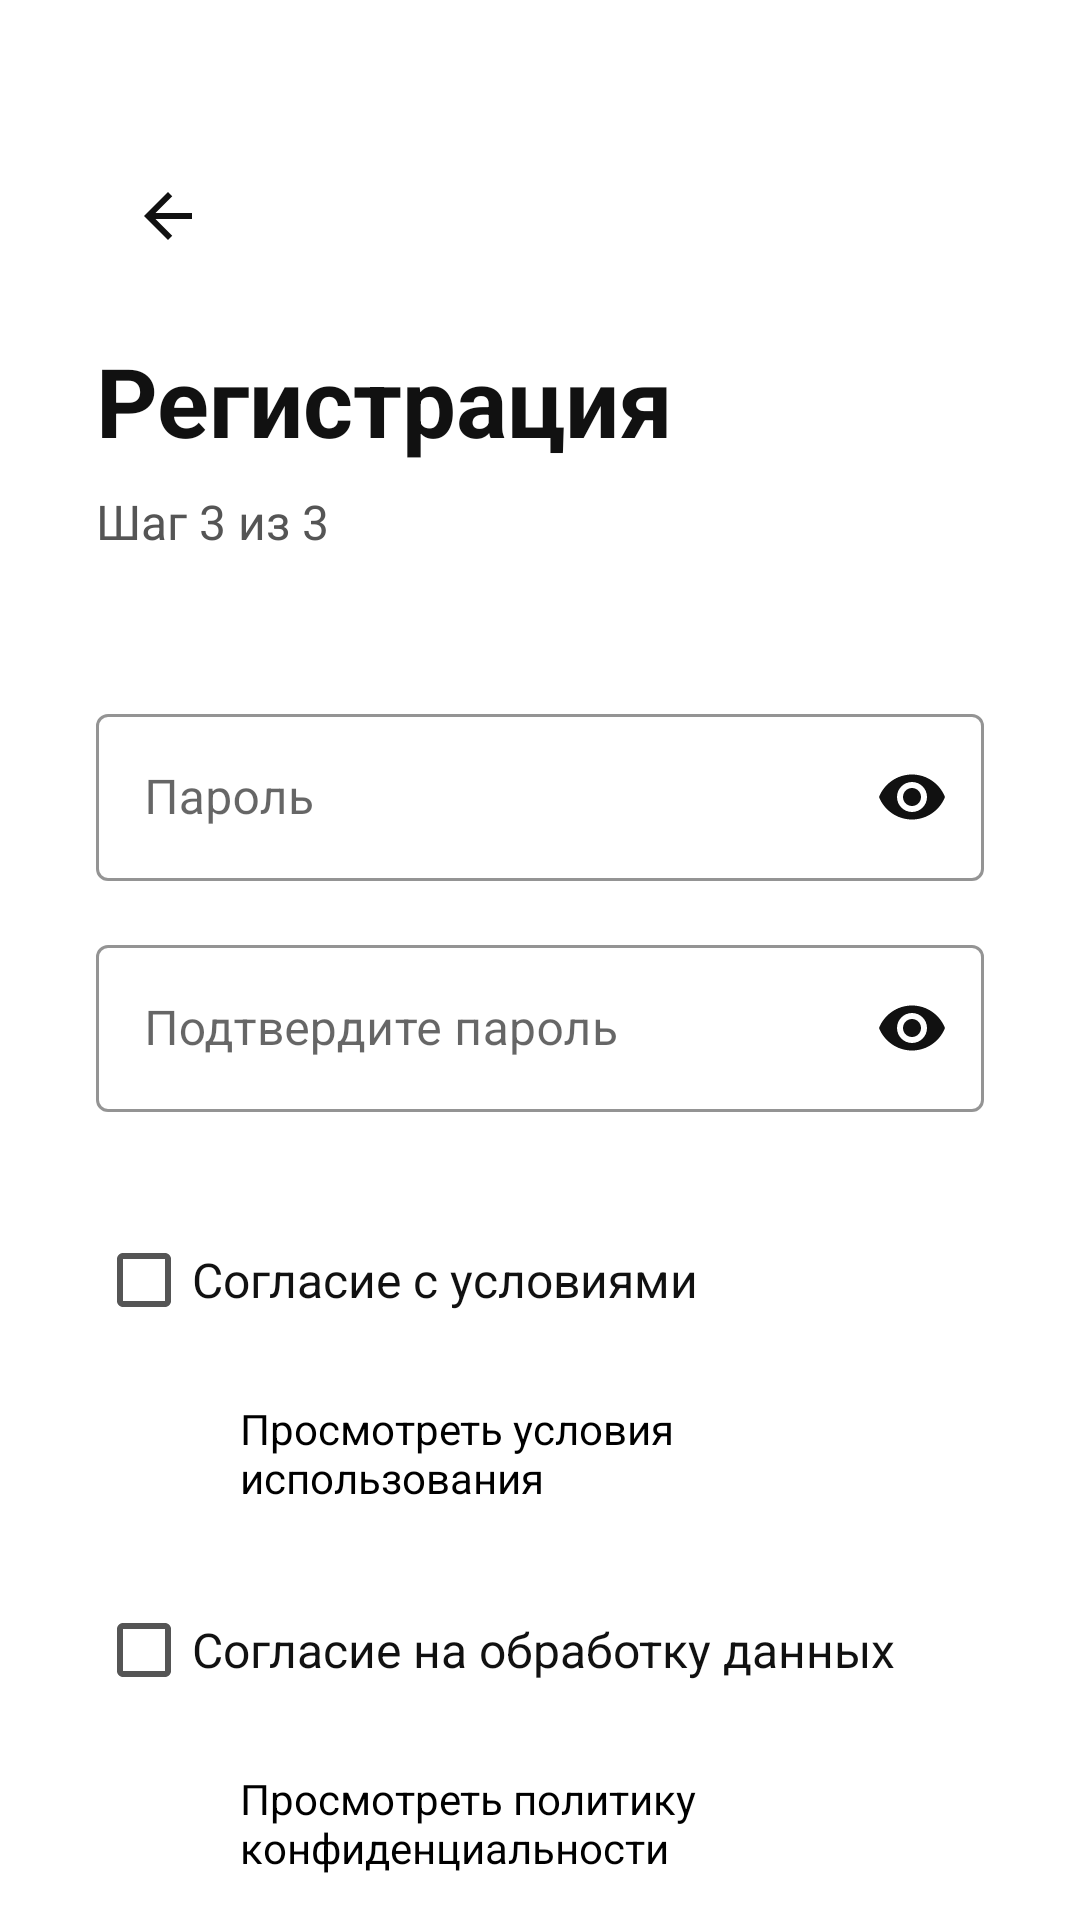

Where to tap for icons on this 1080 × 1920 app screen, as (x,y):
arrow back: (168,216)
